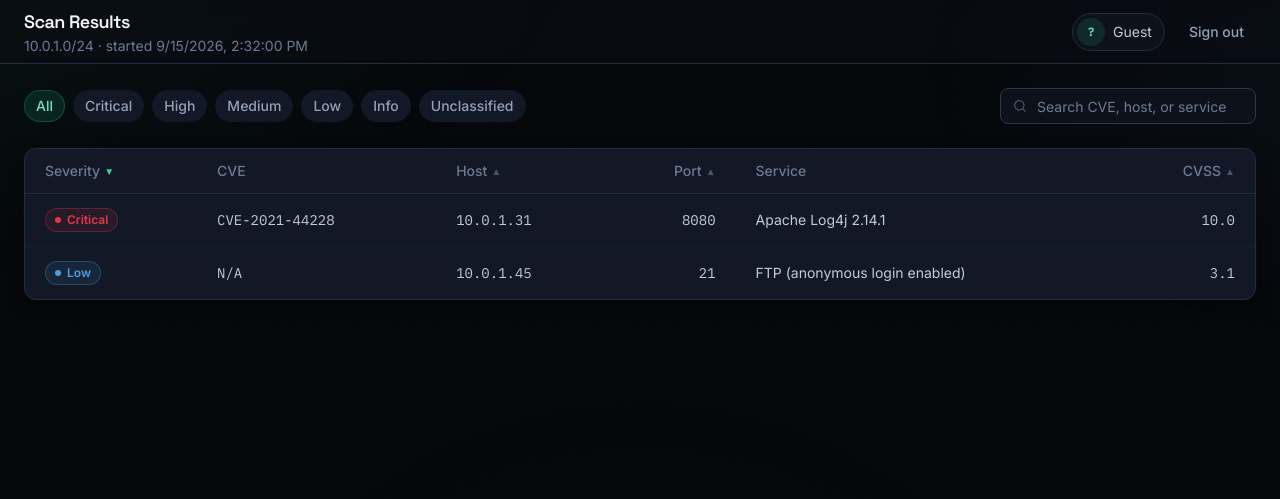
Test: ScanResults › opens the CVE detail panel when a row is selected
Click the text "CVE-2021-44228": (276, 220) [217,211,335,229]
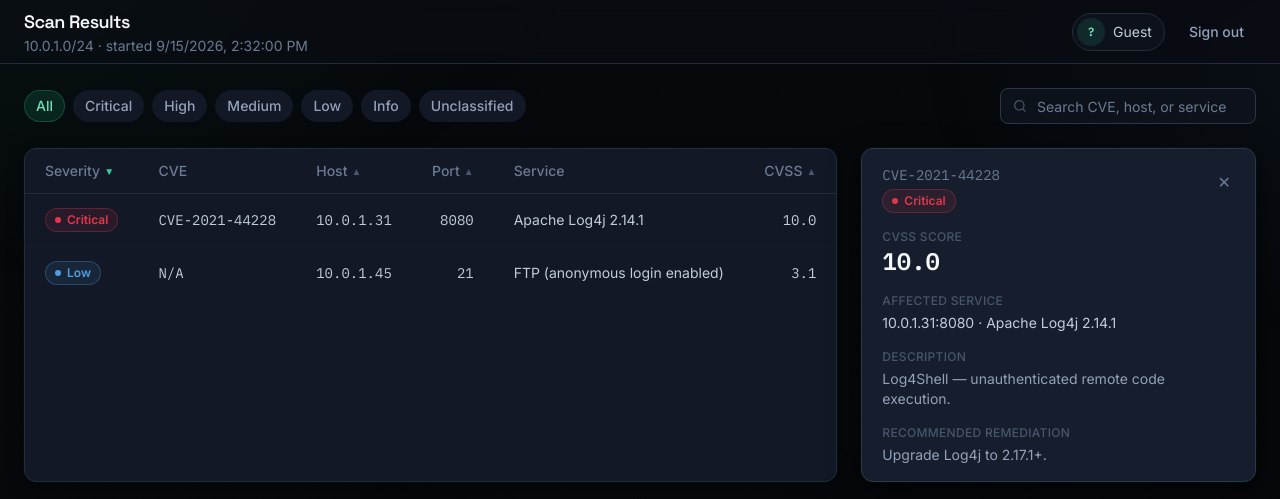
Expected: the text "Log4Shell — unauthenticated remote code execution." is shown, [882,370,1165,407]
Expected: the text "Upgrade Log4j to 2.17.1+." is shown, [882,446,1047,463]
